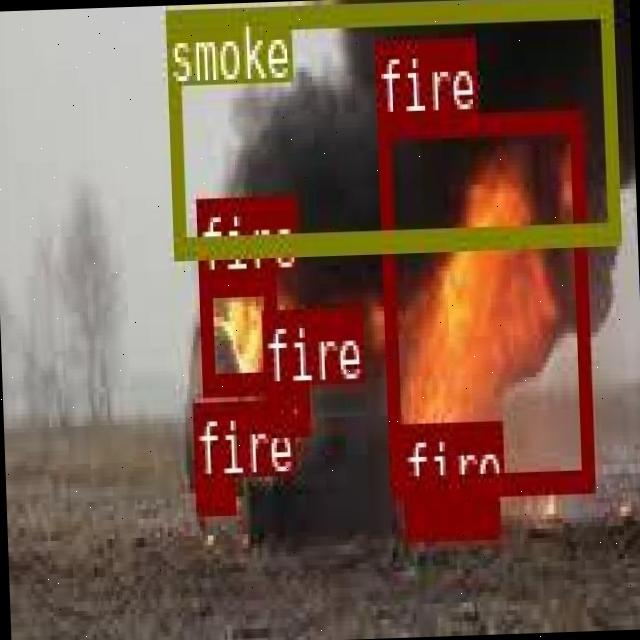fire: (376, 108, 591, 491), (198, 268, 276, 391), (403, 493, 498, 535), (261, 382, 307, 430), (193, 474, 230, 509)
smoke: (164, 0, 617, 256)
